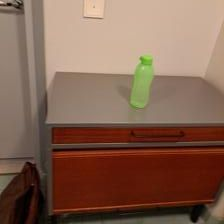bottle: (127, 52, 156, 110)
